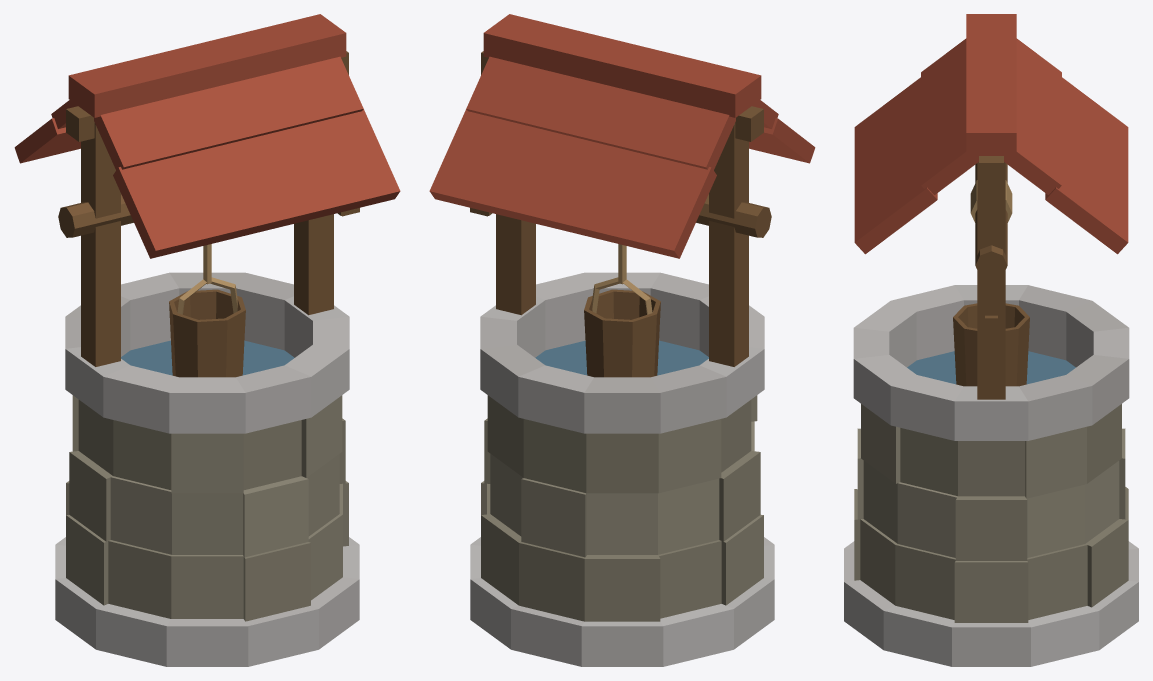
The model's file is stone-well-b2dfcd.glb.
3 renders of one model, left to right at view 1: azimuth 30°, elevation 25°; view 2: azimuth 150°, elevation 25°; view 3: azimuth 270°, elevation 25°, orthographic. The views are drawn at different scales.
Parts seen in each view (by area): view 1: well, bucket-mesh, winch-mesh; view 2: well, bucket-mesh, winch-mesh; view 3: well, bucket-mesh, winch-mesh.
Boxes of the visible parts, x1,y1,x2,y2 form: well: (14,14,400,666); bucket-mesh: (169,277,245,377); winch-mesh: (58,194,359,237); well: (429,14,815,666); bucket-mesh: (584,277,660,377); winch-mesh: (470,194,771,237); well: (844,14,1138,666); bucket-mesh: (953,303,1029,386); winch-mesh: (970,163,1012,329).
Bounding box in the file's own units: 0.968 × 1.75 × 0.879.
